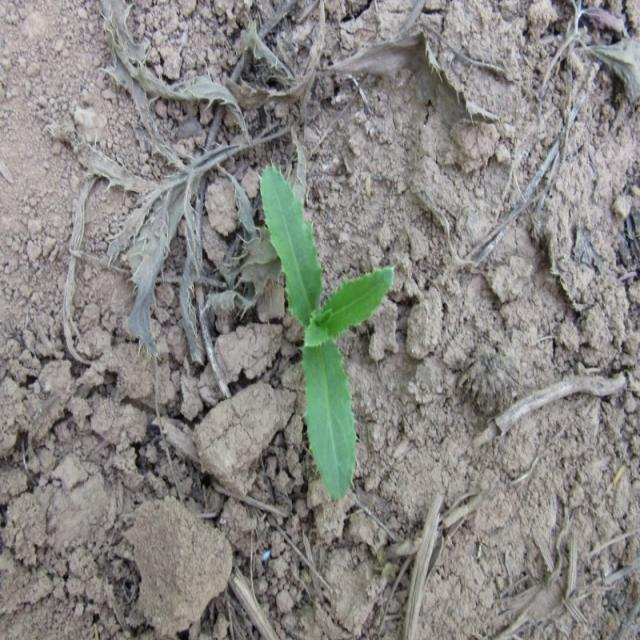field_thistle: (250, 144, 420, 503)
